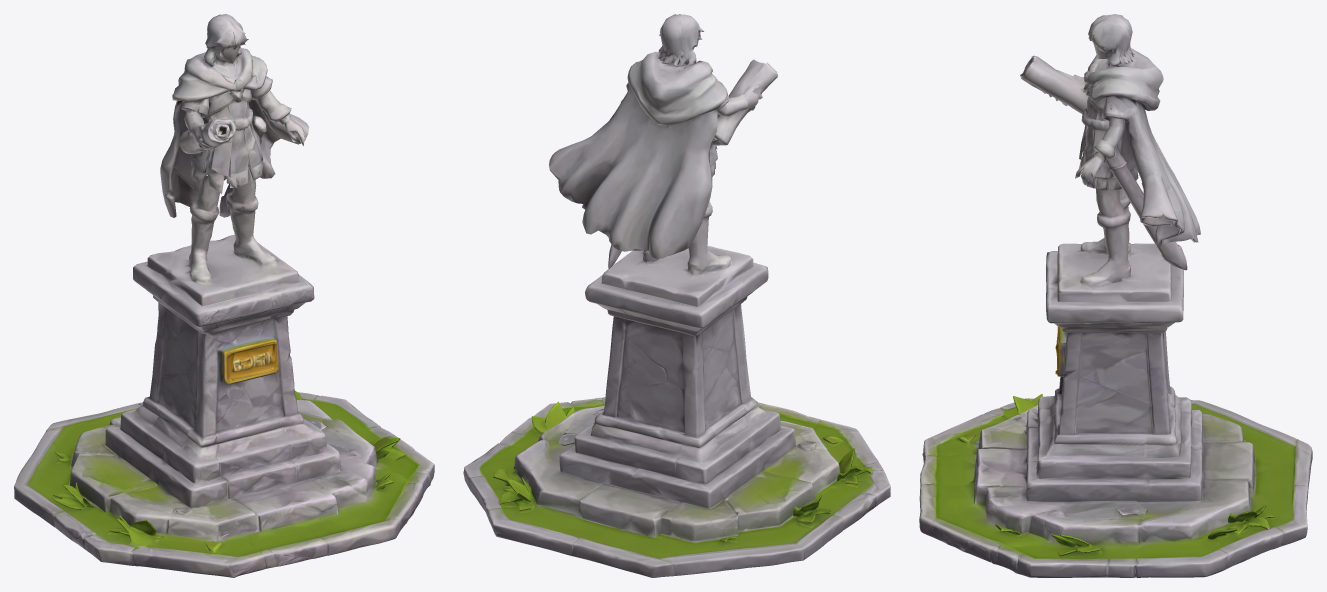
The model's file is The_founder’s_statue.glb.
The picture shows the model from 3 angles, left to right: view 1: azimuth 30°, elevation 25°; view 2: azimuth 150°, elevation 25°; view 3: azimuth 270°, elevation 25°; orthographic projection.
Visible parts, largest first — view 1: tripo_node_d574daea-0608-4f14-ac92-3bc8f62eeede; view 2: tripo_node_d574daea-0608-4f14-ac92-3bc8f62eeede; view 3: tripo_node_d574daea-0608-4f14-ac92-3bc8f62eeede.
Part boxes in pixels (box(x1,y1,x2,y2)): tripo_node_d574daea-0608-4f14-ac92-3bc8f62eeede: box(14, 14, 434, 577); tripo_node_d574daea-0608-4f14-ac92-3bc8f62eeede: box(463, 14, 890, 577); tripo_node_d574daea-0608-4f14-ac92-3bc8f62eeede: box(919, 14, 1312, 577).
Bounding box in the file's own units: 0.7382 × 0.9766 × 0.7263.
Materials: 1 (1 with a texture image).
